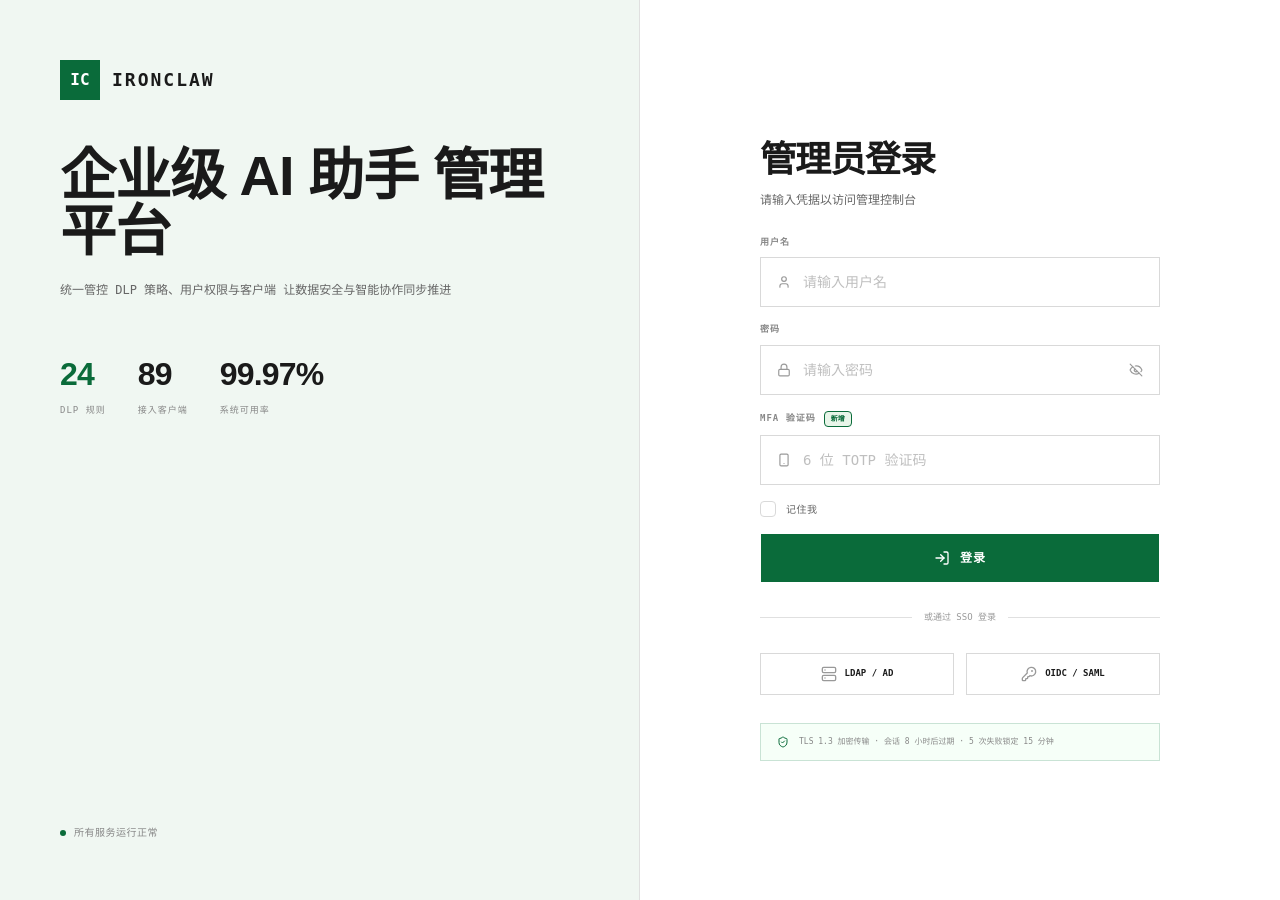
it: LoginPage › 登录失败时应显示错误信息
The image size is (1280, 900).
Type "admin" into the field with placeholder "请输入用户名" at (973, 282), box x1=803 y1=272 x2=1143 y2=292
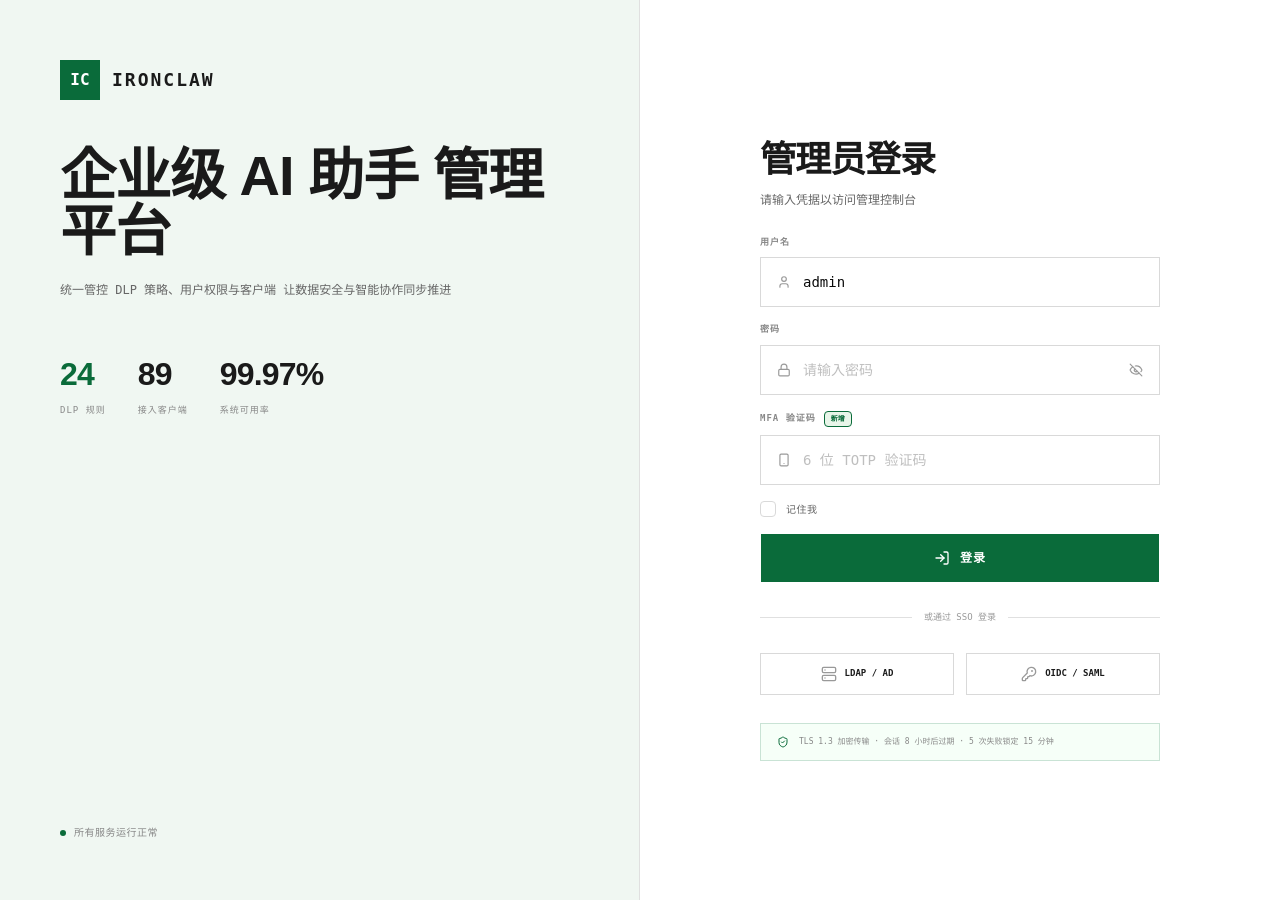
Type "wrong" into the password field with placeholder "请输入密码" at (966, 370), box x1=803 y1=360 x2=1129 y2=380
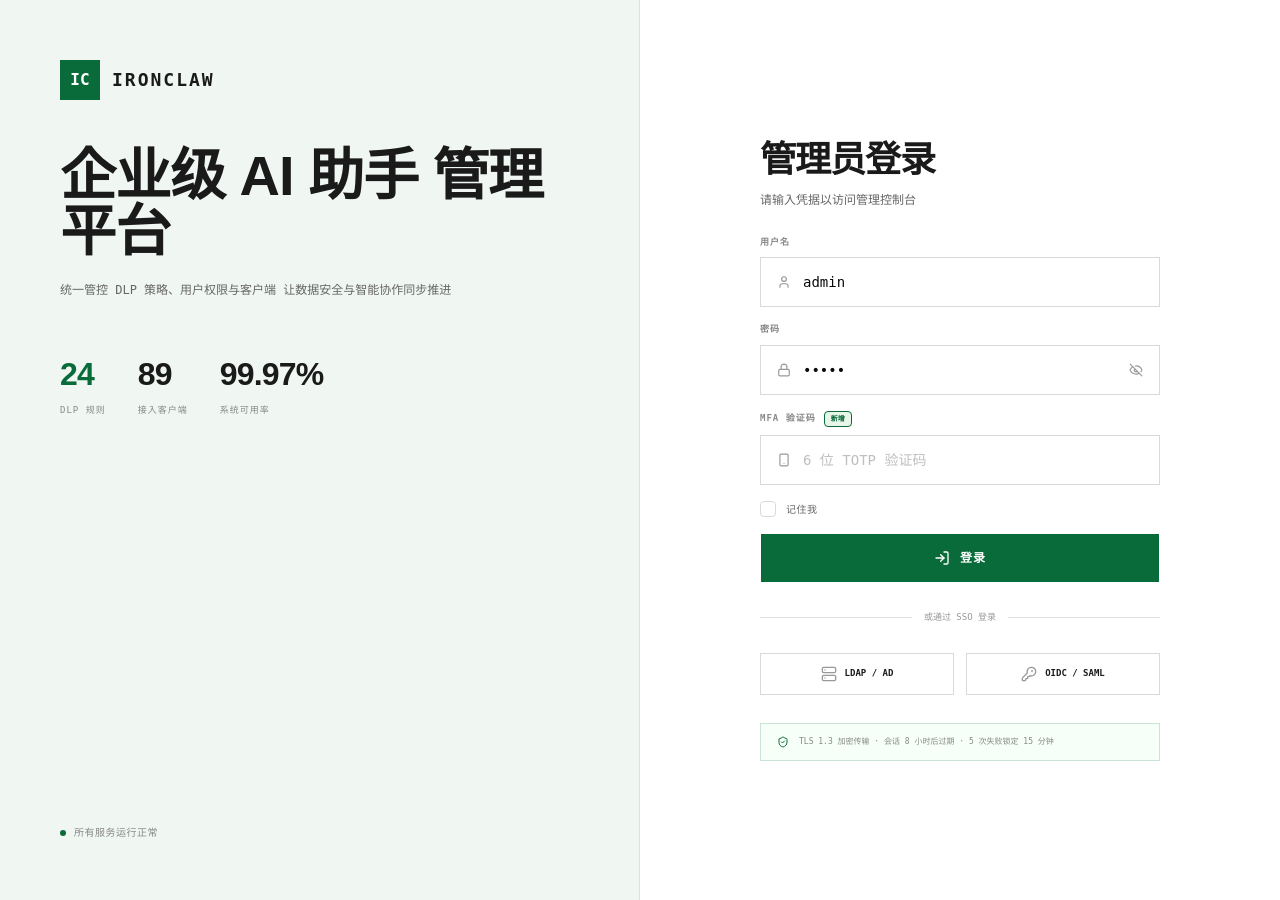
Click the button "登录" at (960, 558), box x1=760 y1=533 x2=1160 y2=583
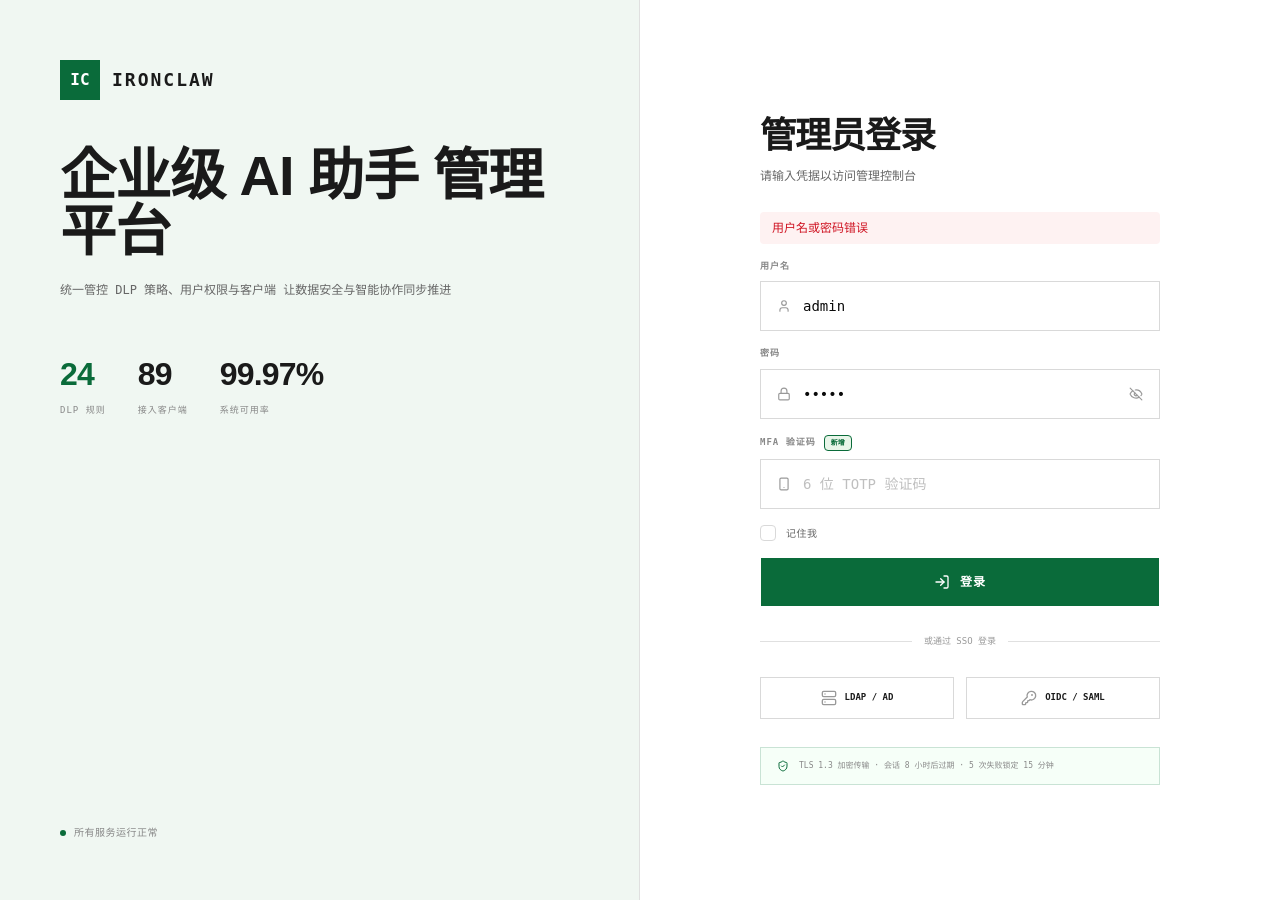
Expected: the text "用户名或密码错误" is shown, x1=760 y1=212 x2=1160 y2=244
